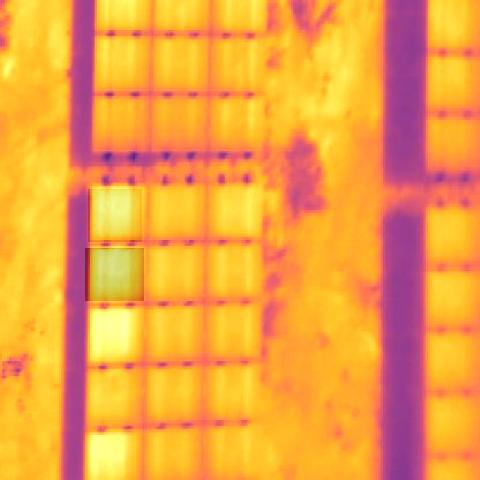fault: (85, 248, 144, 301), (88, 310, 144, 364), (88, 189, 142, 242), (86, 431, 134, 480)
